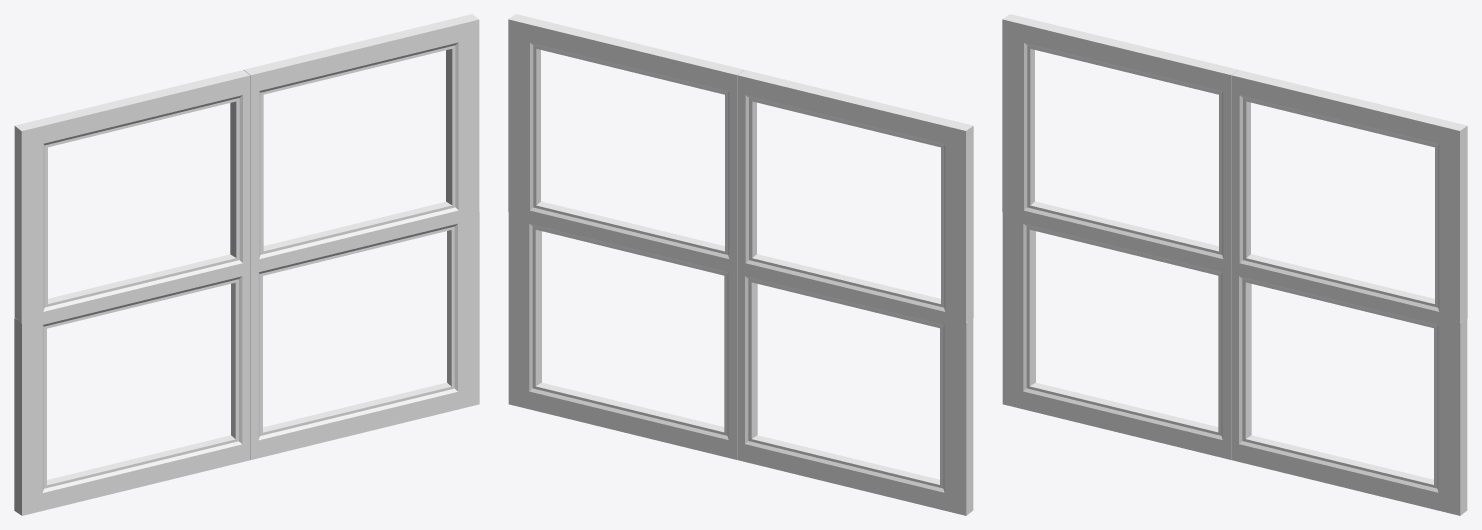
Rendered from RoomWindowFrame_Small.FBX.
3 views of the same model, side by side, from view 1: azimuth 30°, elevation 25°; view 2: azimuth 150°, elevation 25°; view 3: azimuth 330°, elevation 25° (orthographic).
Parts seen in each view (by area): view 1: Window_Frame_Small; view 2: Window_Frame_Small; view 3: Window_Frame_Small.
Boxes of the visible parts, x1,y1,x2,y2 form: Window_Frame_Small: [14, 14, 479, 515]; Window_Frame_Small: [508, 14, 973, 515]; Window_Frame_Small: [1002, 14, 1467, 515].
Size of the model in its own units: 0.8875 by 0.7124 by 0.025.
